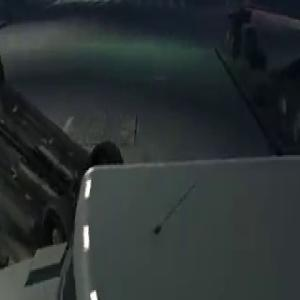severe: (0, 22, 122, 285)
